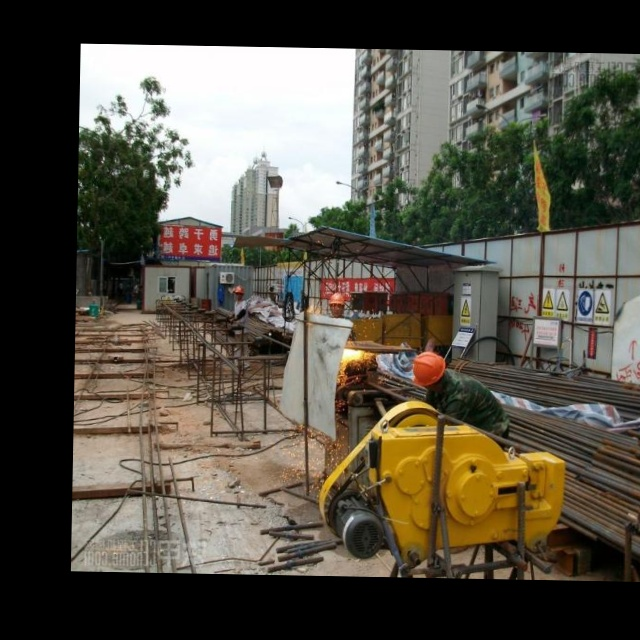Con_Casco: (412, 351, 448, 396)
